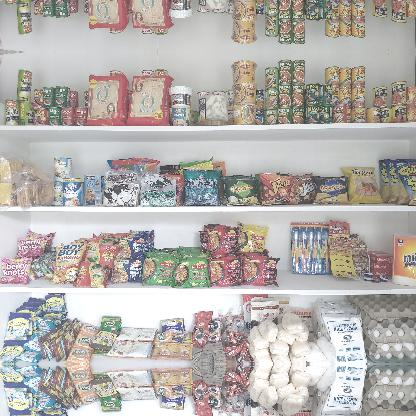Lady-s-Choice: (197, 95, 229, 125), (197, 0, 230, 10)
